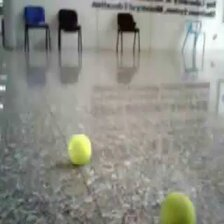tennis: (159, 193, 195, 224), (68, 134, 92, 164)
